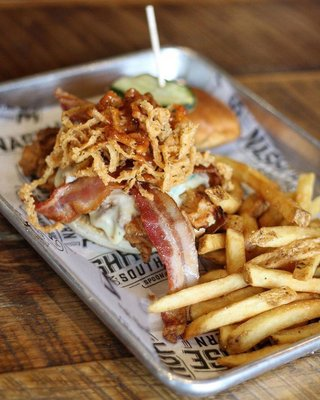curry: (3, 59, 319, 400)
